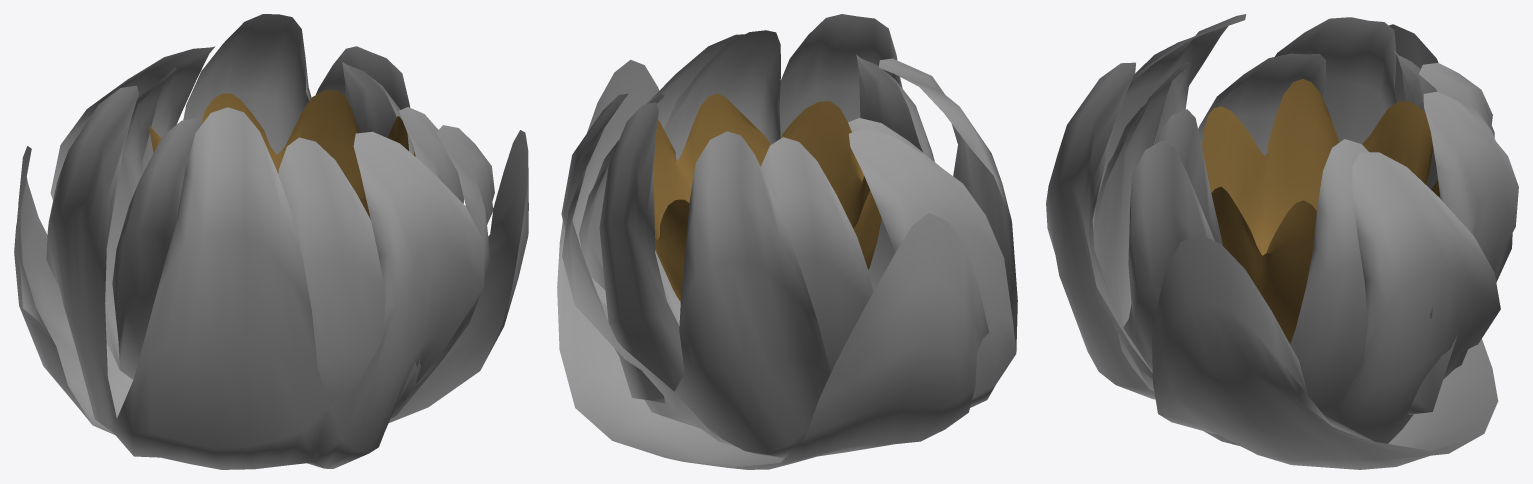
The model's file is LilyFlowe_02_Plane.fbx.
3 renders of one model, left to right at view 1: azimuth 30°, elevation 25°; view 2: azimuth 150°, elevation 25°; view 3: azimuth 270°, elevation 25°, orthographic. The views are drawn at different scales.
Visible parts, largest first — view 1: LilyFlower_02_Plane; view 2: LilyFlower_02_Plane; view 3: LilyFlower_02_Plane.
Part boxes in pixels (x1,y1,x2,y2): LilyFlower_02_Plane: [14, 14, 528, 469]; LilyFlower_02_Plane: [557, 14, 1017, 469]; LilyFlower_02_Plane: [1046, 14, 1518, 469].
Bounding box in the file's own units: 9.96 × 7.93 × 8.85.
